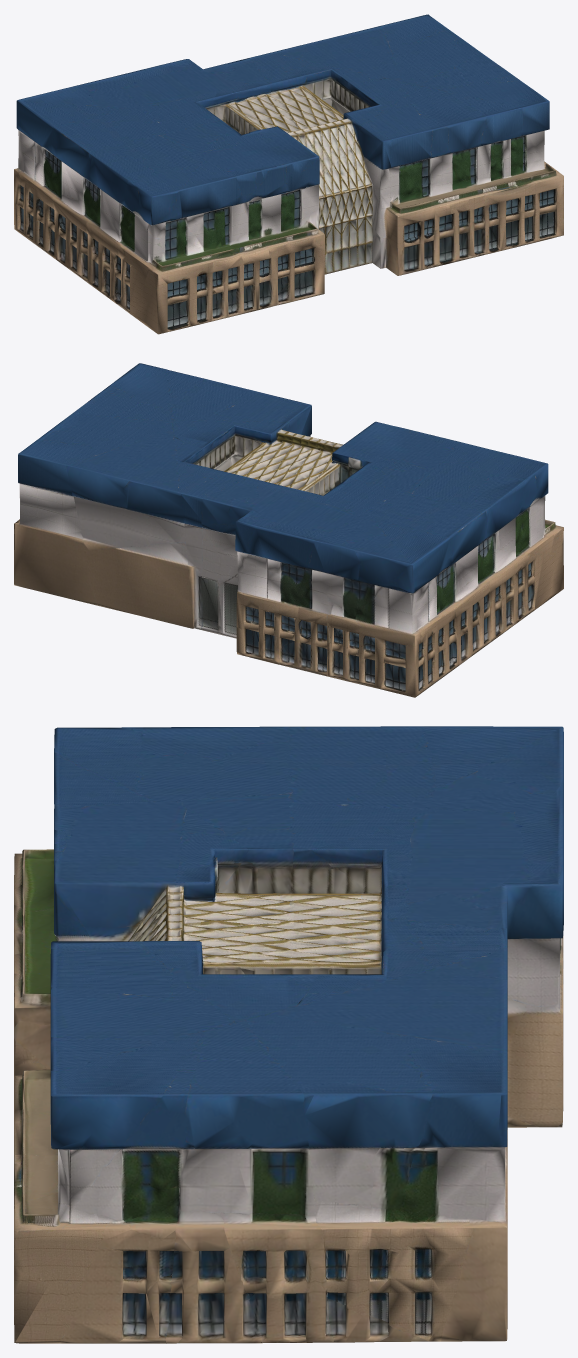
Rendered from bluehall_lod1.glb.
3 views of the same model, one above another, from view 1: azimuth 30°, elevation 25°; view 2: azimuth 150°, elevation 25°; view 3: azimuth 270°, elevation 25° (orthographic). The views are drawn at different scales.
Parts seen in each view (by area): view 1: mesh_node; view 2: mesh_node; view 3: mesh_node.
Boxes of the visible parts, x1,y1,x2,y2 form: mesh_node: [14, 14, 563, 334]; mesh_node: [14, 363, 563, 697]; mesh_node: [14, 726, 563, 1343].
Size of the model in its own units: 1.9 by 0.5768 by 1.17.
Materials: 1 (1 with a texture image).
